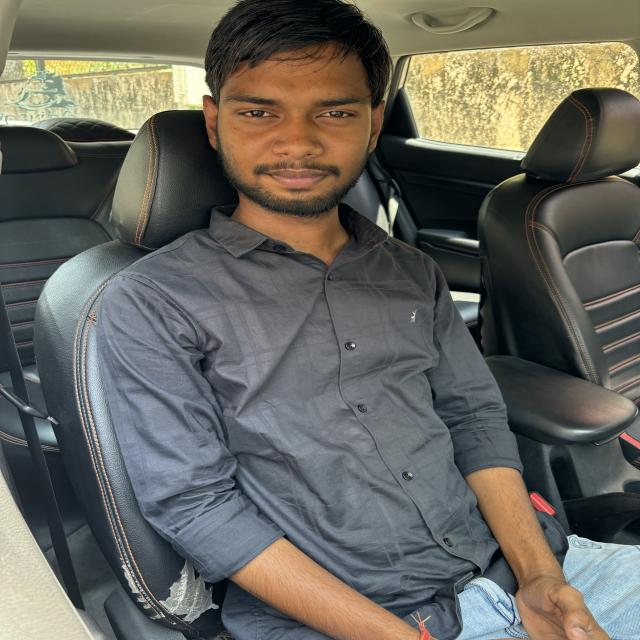no-seatbelt: (70, 256, 551, 574)
